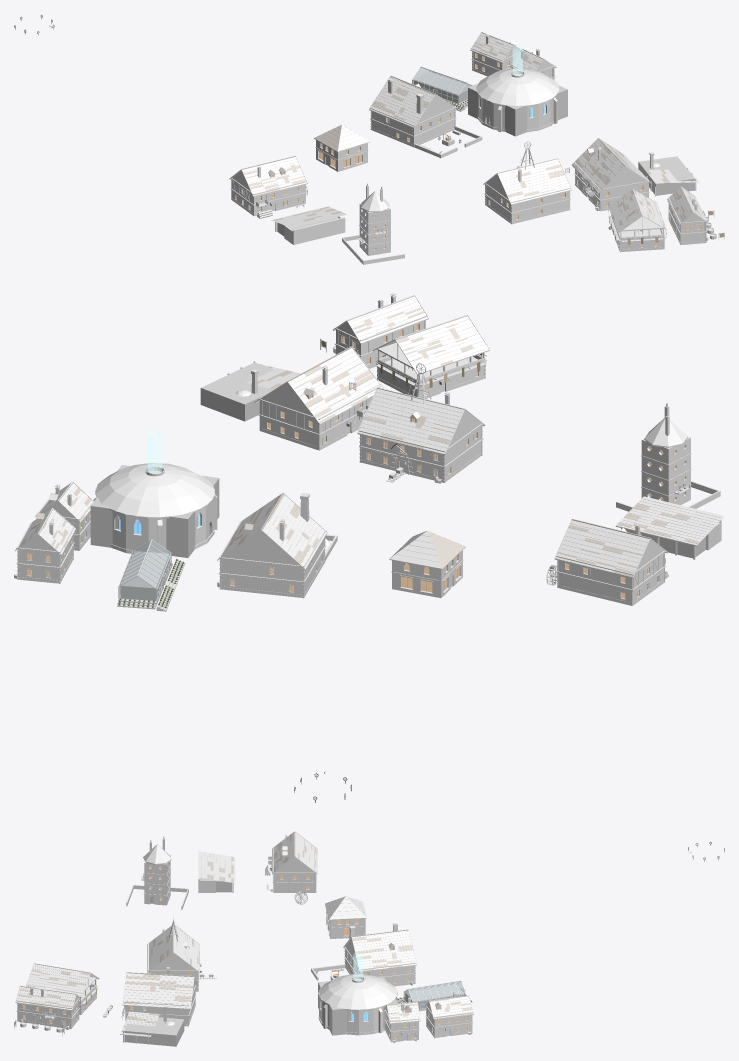
Rendered from concordia_oficios.glb.
3 views of the same model, one above another, from view 1: azimuth 30°, elevation 25°; view 2: azimuth 150°, elevation 25°; view 3: azimuth 270°, elevation 25° (orthographic). The views are drawn at different scales.
Visible parts, largest first — view 1: Taller_GranForja_Body, Gremio_Mineros_Roof, CrisolPiedras_Roof, Gremio_Mineros_Body, Taller_GranForja_Roof, CrisolPiedras_Body, Gremio_Pescadores_Roof, Taller_Alquimia_Body, Taller_Carpinteria_Roof, Taller_Carpinteria_Body, Taller_Sastreria_Roof, Gremio_Pescadores_Body (+17 smaller); view 2: Gremio_Mineros_Roof, CrisolPiedras_Roof, Taller_GranForja_Body, Gremio_Mineros_Body, Gremio_Pescadores_Roof, Gremio_Pescadores_Body, Taller_Sastreria_Roof, Taller_Carpinteria_Roof, Taller_Carpinteria_Body, CrisolPiedras_Body, Taller_GranForja_Roof, Taller_Alquimia_Body (+16 smaller); view 3: Gremio_Pescadores_Roof, Taller_GranForja_Roof, CrisolPiedras_Roof, CrisolPiedras_Body, Taller_Sastreria_Roof, Gremio_Mineros_Roof, Taller_Alquimia_Body, Taller_Carpinteria_Body, Taller_Curtiduria_Body, Taller_Hornos_InteriorVolume, Taller_Carpinteria_Roof, Taller_GranForja_Body (+17 smaller).
Boxes of the visible parts, <box> form: Taller_GranForja_Body: <box>370,93,456,147</box>; Gremio_Mineros_Roof: <box>483,141,571,205</box>; CrisolPiedras_Roof: <box>476,68,559,105</box>; Gremio_Mineros_Body: <box>484,174,570,224</box>; Taller_GranForja_Roof: <box>369,75,457,128</box>; CrisolPiedras_Body: <box>476,46,559,132</box>; Gremio_Pescadores_Roof: <box>571,138,652,193</box>; Taller_Alquimia_Body: <box>342,203,404,264</box>; Taller_Carpinteria_Roof: <box>229,156,307,196</box>; Taller_Carpinteria_Body: <box>230,170,306,216</box>; Taller_Sastreria_Roof: <box>608,189,666,240</box>; Gremio_Pescadores_Body: <box>574,154,649,211</box>; Gremio_Mineros_Roof: <box>357,363,484,455</box>; CrisolPiedras_Roof: <box>95,463,214,517</box>; Taller_GranForja_Body: <box>218,493,325,598</box>; Gremio_Mineros_Body: <box>359,411,483,482</box>; Gremio_Pescadores_Roof: <box>254,346,384,424</box>; Gremio_Pescadores_Body: <box>258,382,380,450</box>; Taller_Sastreria_Roof: <box>373,315,489,384</box>; Taller_Carpinteria_Roof: <box>554,519,667,578</box>; Taller_Carpinteria_Body: <box>556,540,665,605</box>; CrisolPiedras_Body: <box>93,430,217,553</box>; Taller_GranForja_Roof: <box>217,492,327,569</box>; Taller_Alquimia_Body: <box>616,436,720,511</box>; Gremio_Pescadores_Roof: <box>122,967,198,1009</box>; Taller_GranForja_Roof: <box>343,923,417,972</box>; CrisolPiedras_Roof: <box>319,974,396,1009</box>; CrisolPiedras_Body: <box>318,953,397,1035</box>; Taller_Sastreria_Roof: <box>25,963,99,1003</box>; Gremio_Mineros_Roof: <box>147,915,199,972</box>; Taller_Alquimia_Body: <box>126,854,188,909</box>; Taller_Carpinteria_Body: <box>268,847,316,892</box>; Taller_Curtiduria_Body: <box>16,996,79,1028</box>; Taller_Hornos_InteriorVolume: <box>124,1017,184,1046</box>; Taller_Carpinteria_Roof: <box>272,831,317,874</box>; Taller_GranForja_Body: <box>344,925,415,986</box>.
Size of what is drawn, in the model's own units: 118 by 21.54 by 201.
Materials: 23 (16 with a texture image).
